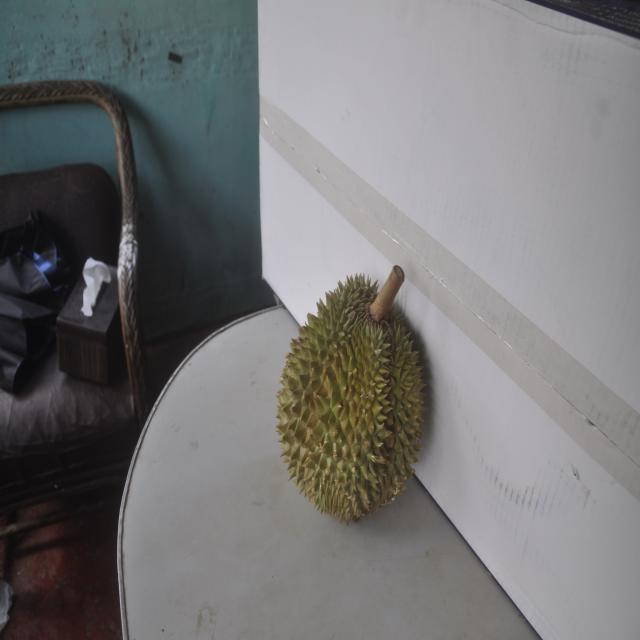mature: (277, 268, 427, 524)
